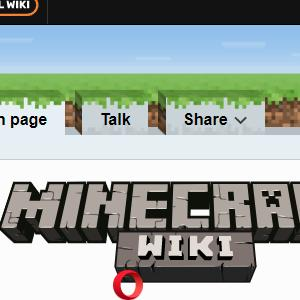opera: (112, 269, 143, 300)
